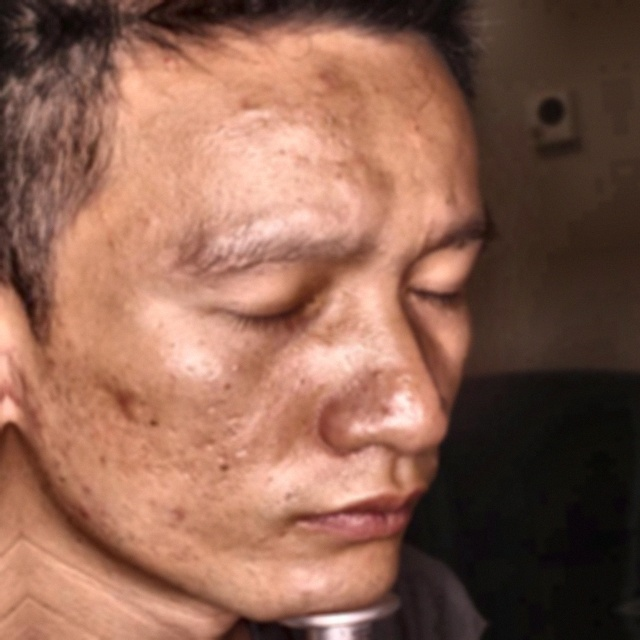comedone: (98, 377, 156, 428), (301, 66, 337, 96)
